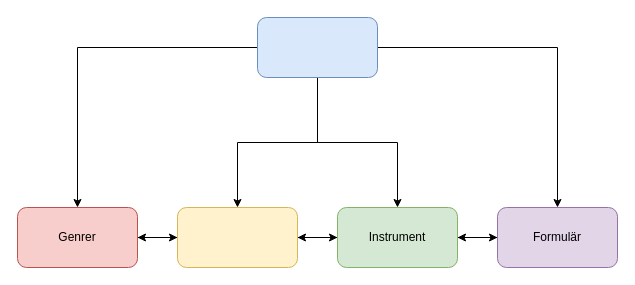
This 635x285 diagram has some shape labels left out. The shapes that lost their labels are listed below. From the top down, each one's centre as x and y in pixels, then its label:
(x=317, y=47): Huvudsida
(x=237, y=237): Videor
